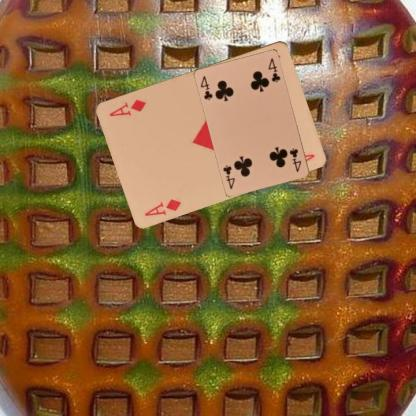4c: (198, 73, 214, 102), (287, 146, 303, 173)
Ad: (142, 196, 183, 218)
